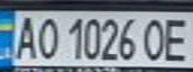0: (81, 15, 103, 61)
1: (63, 15, 84, 61)
2: (100, 15, 121, 62)
6: (118, 15, 142, 62)
A: (9, 12, 39, 61)
E: (160, 15, 193, 62)
O: (139, 15, 172, 62), (33, 15, 60, 61)
